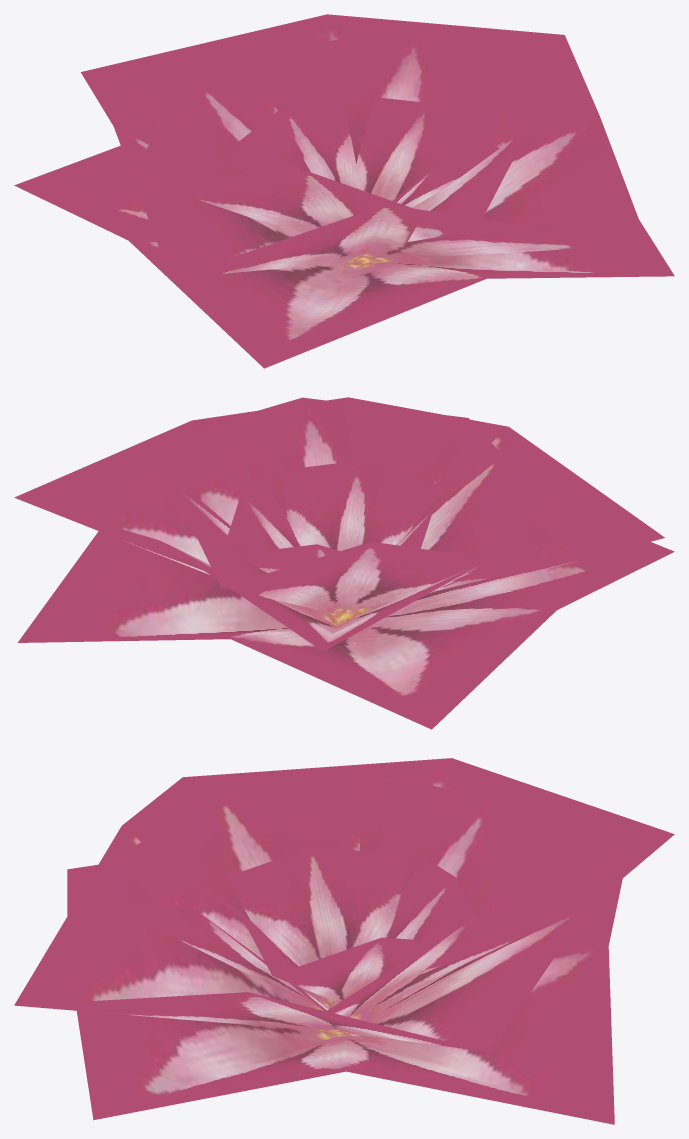
Rendered from c_pondflower.static.glb.
3 views of the same model, one above another, from view 1: azimuth 30°, elevation 25°; view 2: azimuth 150°, elevation 25°; view 3: azimuth 270°, elevation 25° (orthographic). The views are drawn at different scales.
Parts seen in each view (by area): view 1: C_pondflower; view 2: C_pondflower; view 3: C_pondflower.
Part boxes in pixels (left/top/right/bottom): C_pondflower: left=14, top=14, right=674, bottom=368; C_pondflower: left=14, top=397, right=674, bottom=729; C_pondflower: left=14, top=758, right=674, bottom=1124.
Size of the model in its own units: 1.67 by 0.4802 by 1.61.
Materials: 1 (1 with a texture image).
